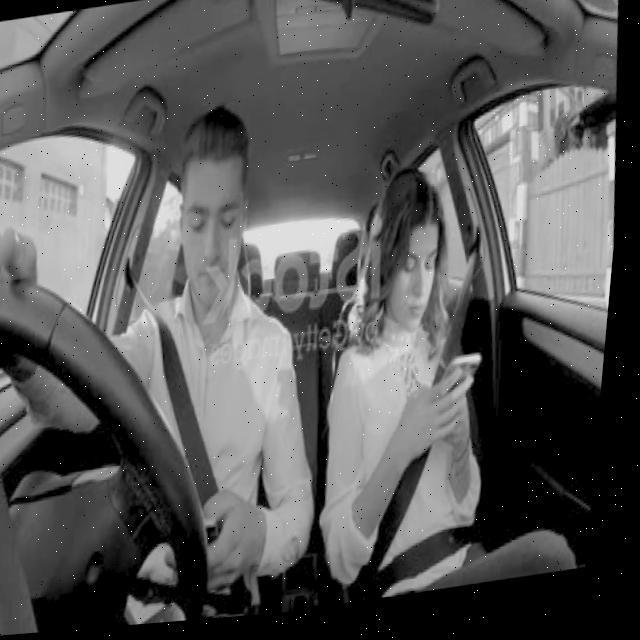PhoneCall: (441, 358, 495, 436)
